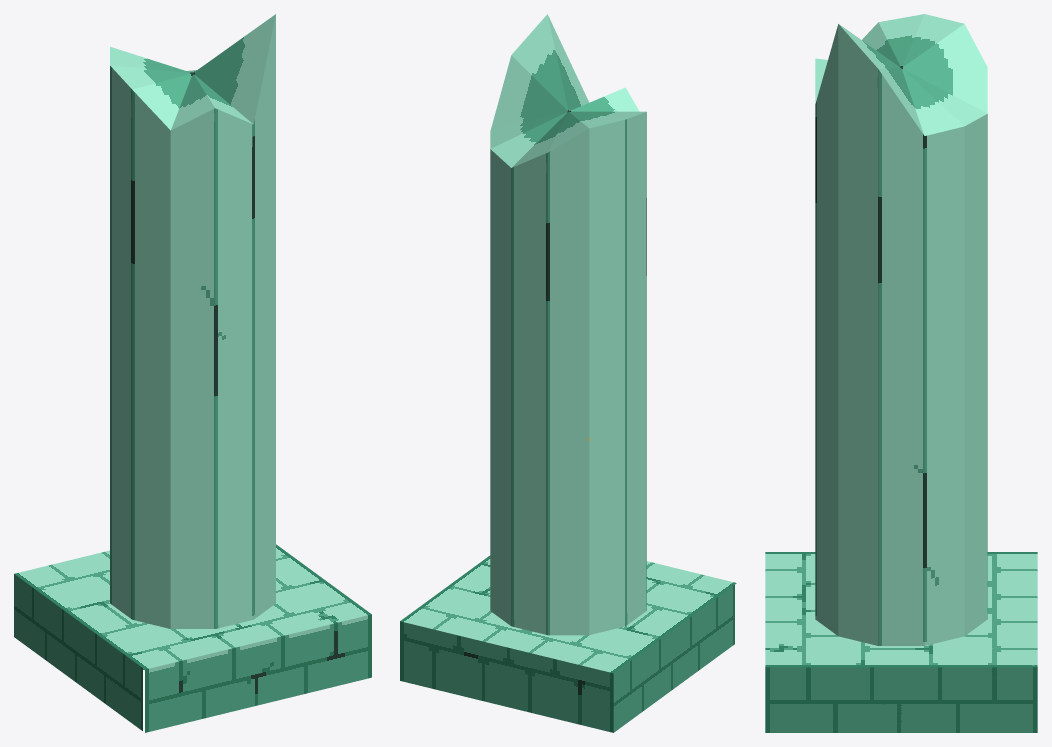
The model's file is spookyjam_pillar2.gltf.
3 views of the same model, side by side, from view 1: azimuth 30°, elevation 25°; view 2: azimuth 150°, elevation 25°; view 3: azimuth 270°, elevation 25° (orthographic). The views are drawn at different scales.
Visible parts, largest first — view 1: cylinder, pillarbottom; view 2: cylinder, pillarbottom; view 3: cylinder, pillarbottom.
Boxes of the visible parts, x1,y1,x2,y2 form: cylinder: [110, 14, 275, 670]; pillarbottom: [14, 544, 371, 732]; cylinder: [490, 14, 646, 635]; pillarbottom: [400, 555, 736, 732]; cylinder: [815, 14, 987, 645]; pillarbottom: [765, 552, 1037, 732].
Bounding box in the file's own units: 1.88 × 5.16 × 1.88.
1 material, 1 textured.
